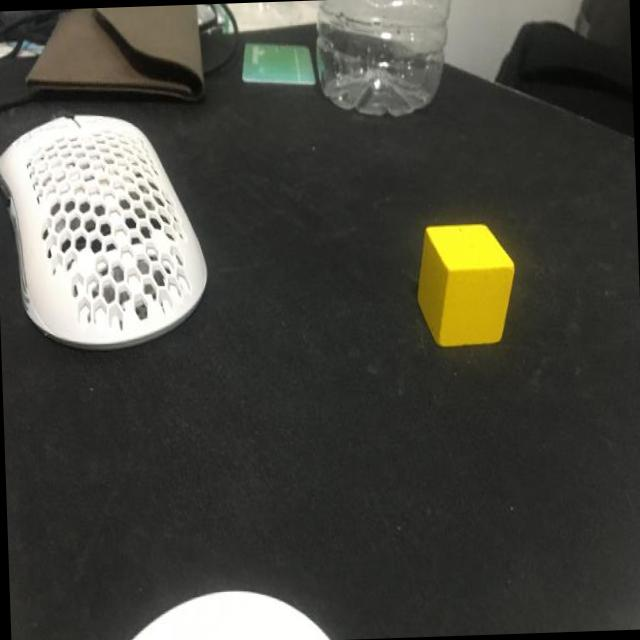yellow: (416, 222, 518, 346)
